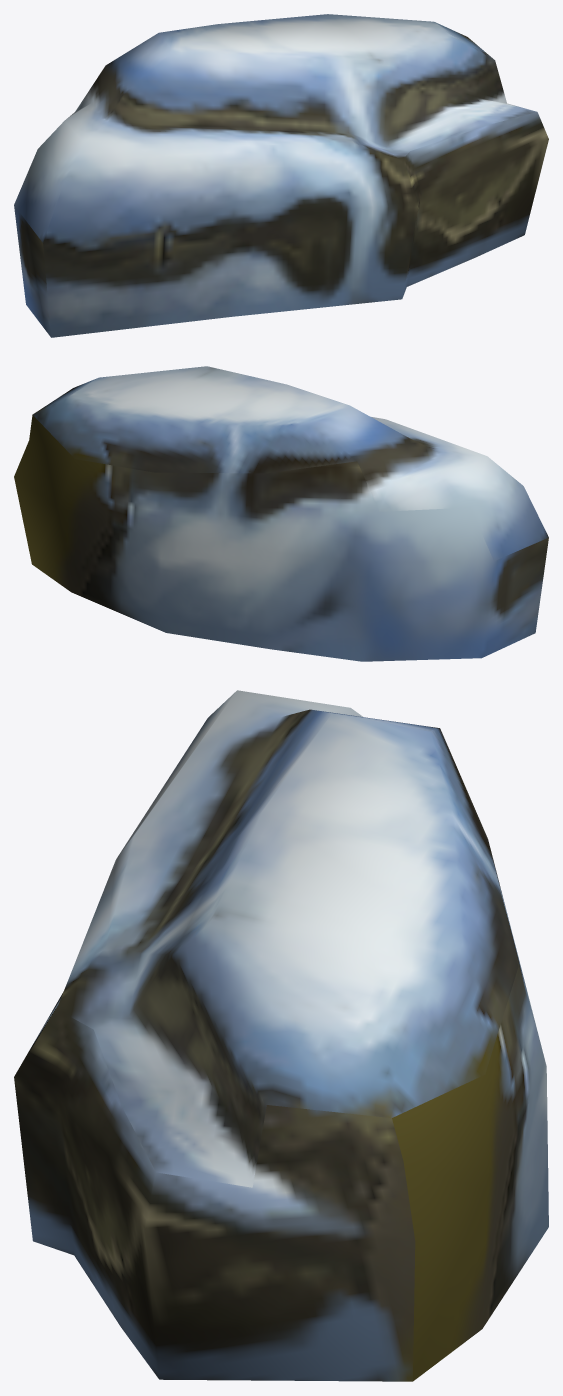
Rendered from ShiTou14.FBX.
3 renders of one model, top to bottom at view 1: azimuth 30°, elevation 25°; view 2: azimuth 150°, elevation 25°; view 3: azimuth 270°, elevation 25°, orthographic. The views are drawn at different scales.
Parts seen in each view (by area): view 1: ShiTou14; view 2: ShiTou14; view 3: ShiTou14.
Boxes of the visible parts, <box> form: ShiTou14: <box>14,14,548,337</box>; ShiTou14: <box>14,366,548,661</box>; ShiTou14: <box>14,690,548,1381</box>.
Size of the model in its own units: 98.24 by 42.47 by 51.47.
